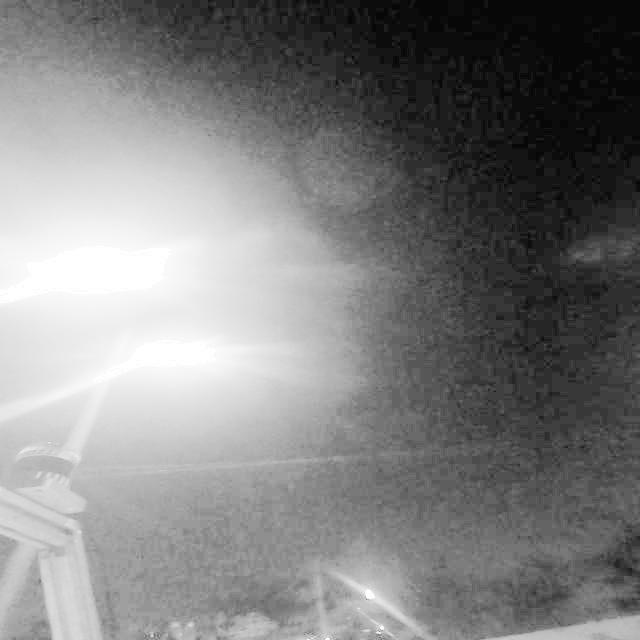Light: (24, 226, 186, 309), (123, 331, 220, 381)
